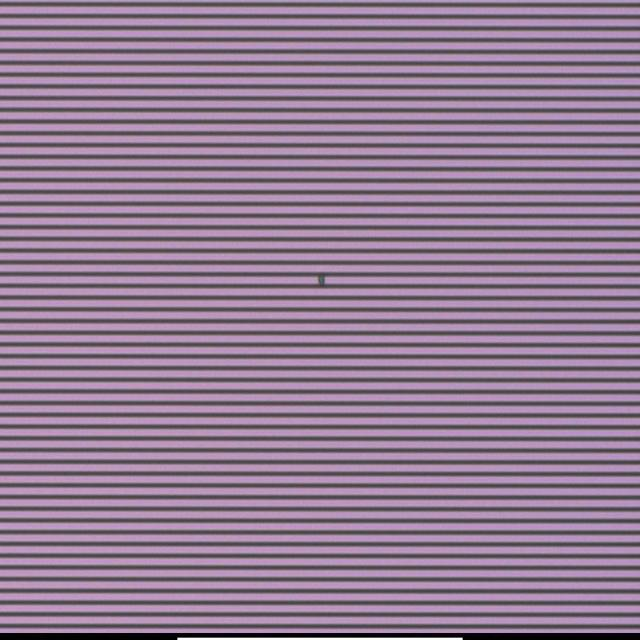nonvisual: (317, 270, 327, 287)
